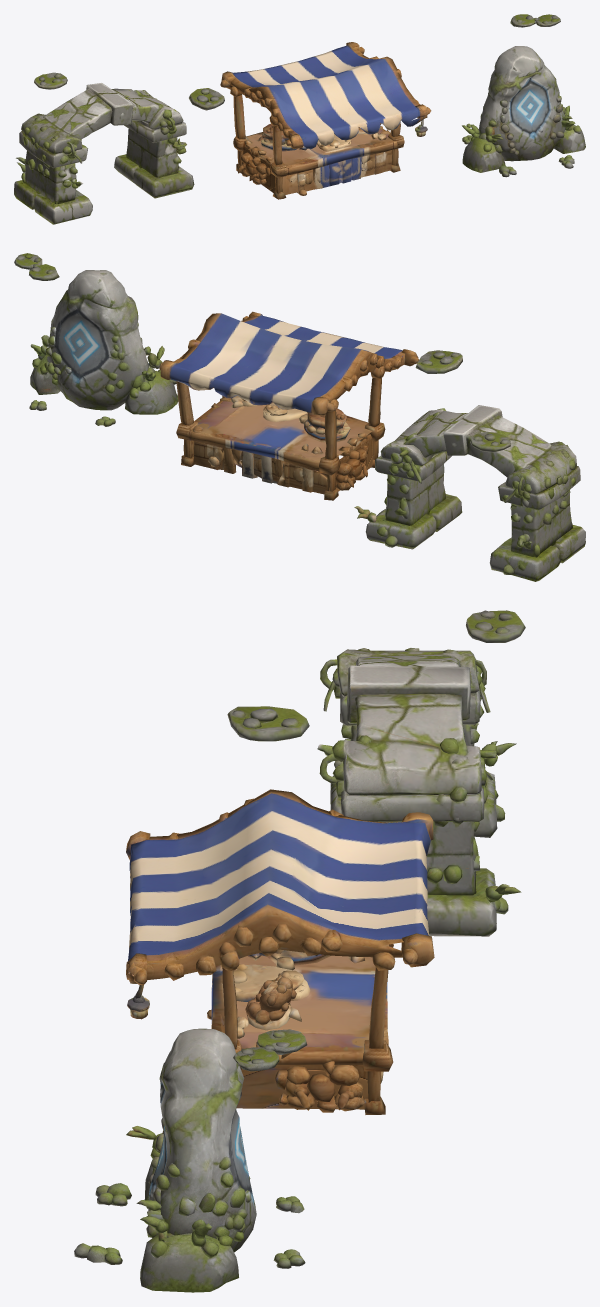
The model's file is Market_Ruin_texture.glb.
3 renders of one model, top to bottom at view 1: azimuth 30°, elevation 25°; view 2: azimuth 150°, elevation 25°; view 3: azimuth 270°, elevation 25°, orthographic. The views are drawn at different scales.
Bounding box in the file's own units: 1 × 0.2343 × 0.4011.
Materials: 1 (1 with a texture image).
